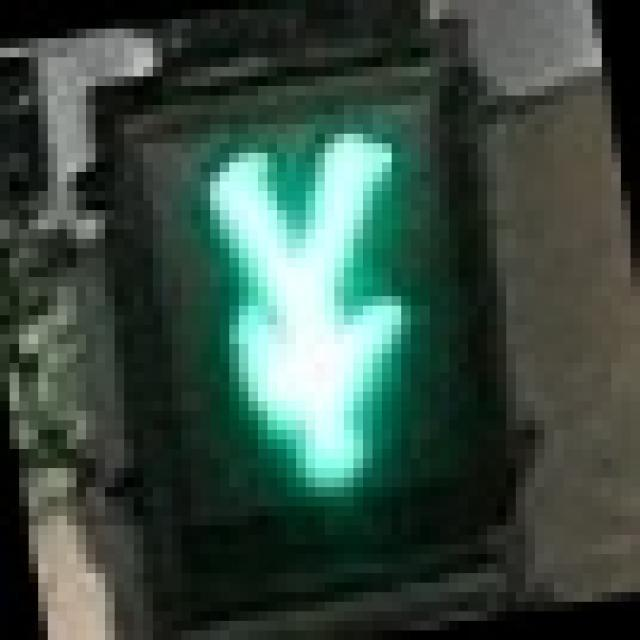geen-crossing: (115, 67, 488, 535)
